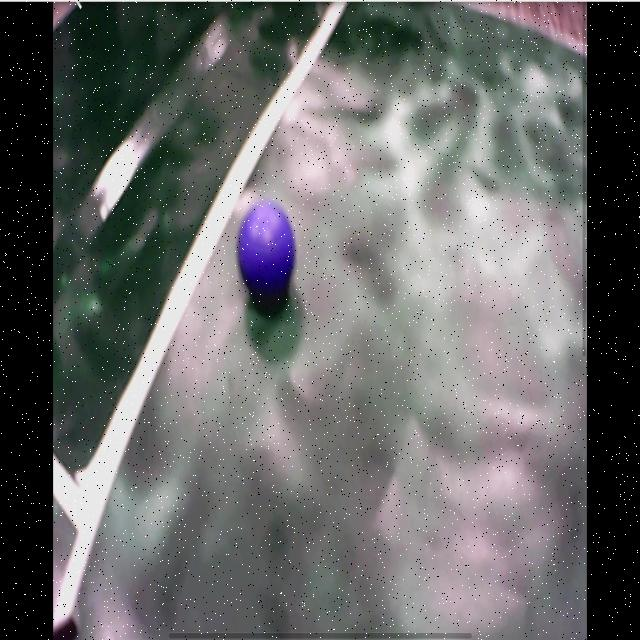ball: (239, 205, 295, 293)
